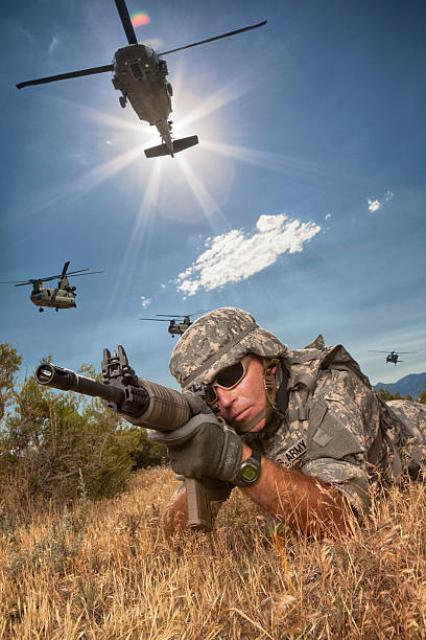other: (154, 306, 424, 528)
